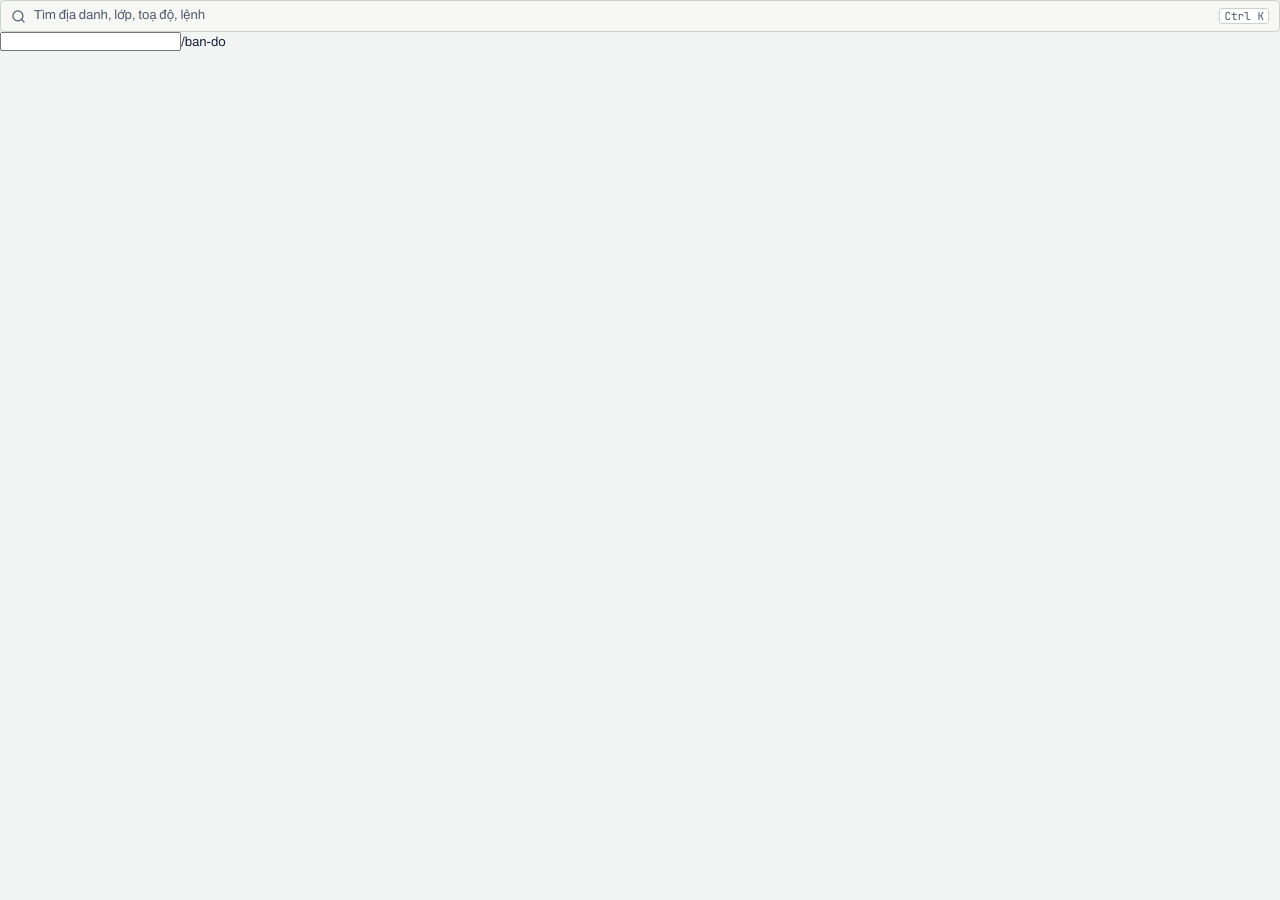
Scenario: CommandPalette › lists layers by name, without accents, and choosing one toggles it
This screenshot has width=1280, height=900.
Later steps or results of the test are not shown.
Click the button "Tìm địa danh, lớp, toạ độ, lệnh Ctrl K". click: (120, 15)
box: [0,0,1279,32]
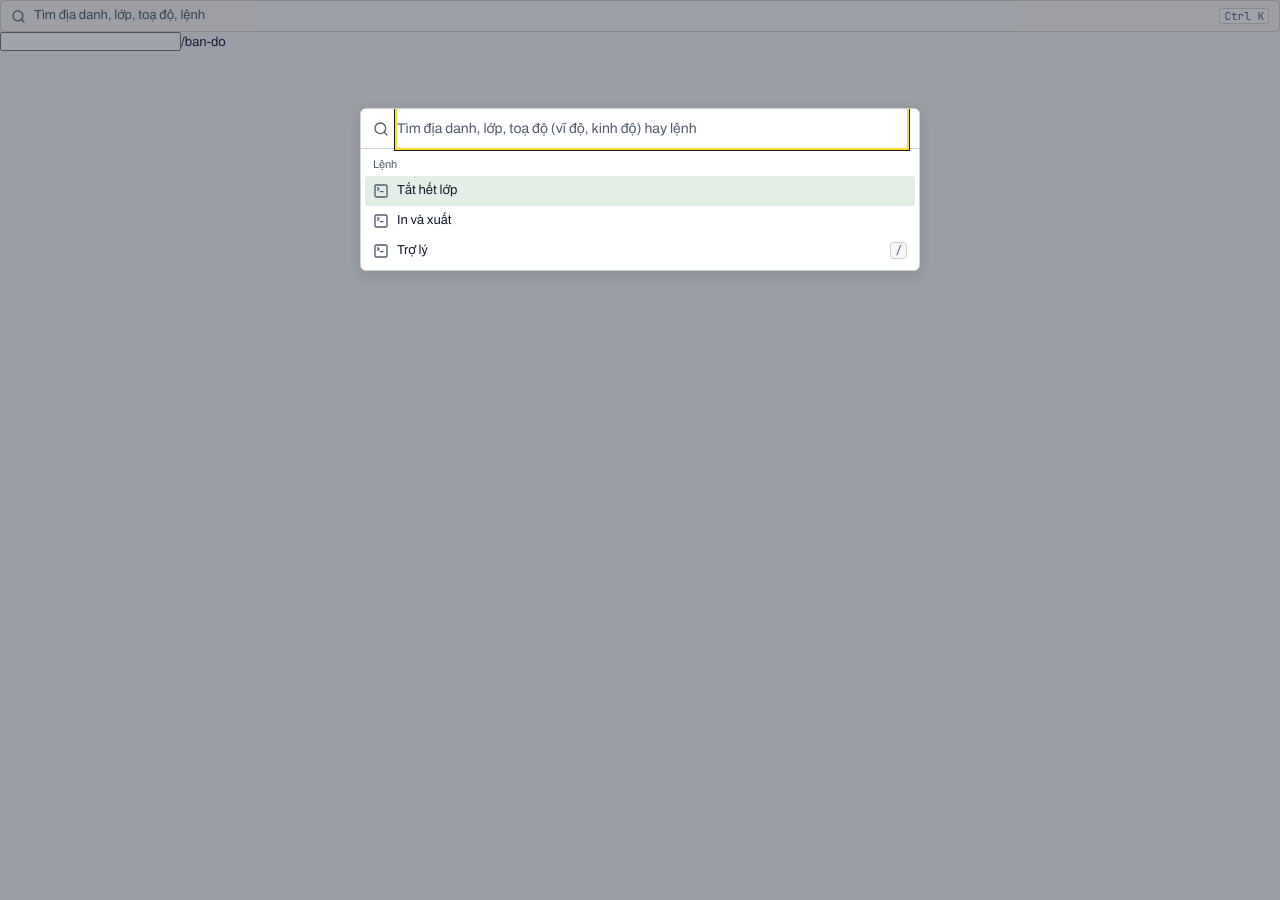
Type "ho chua" into the dropdown. click: (652, 128)
box: [397,109,907,148]
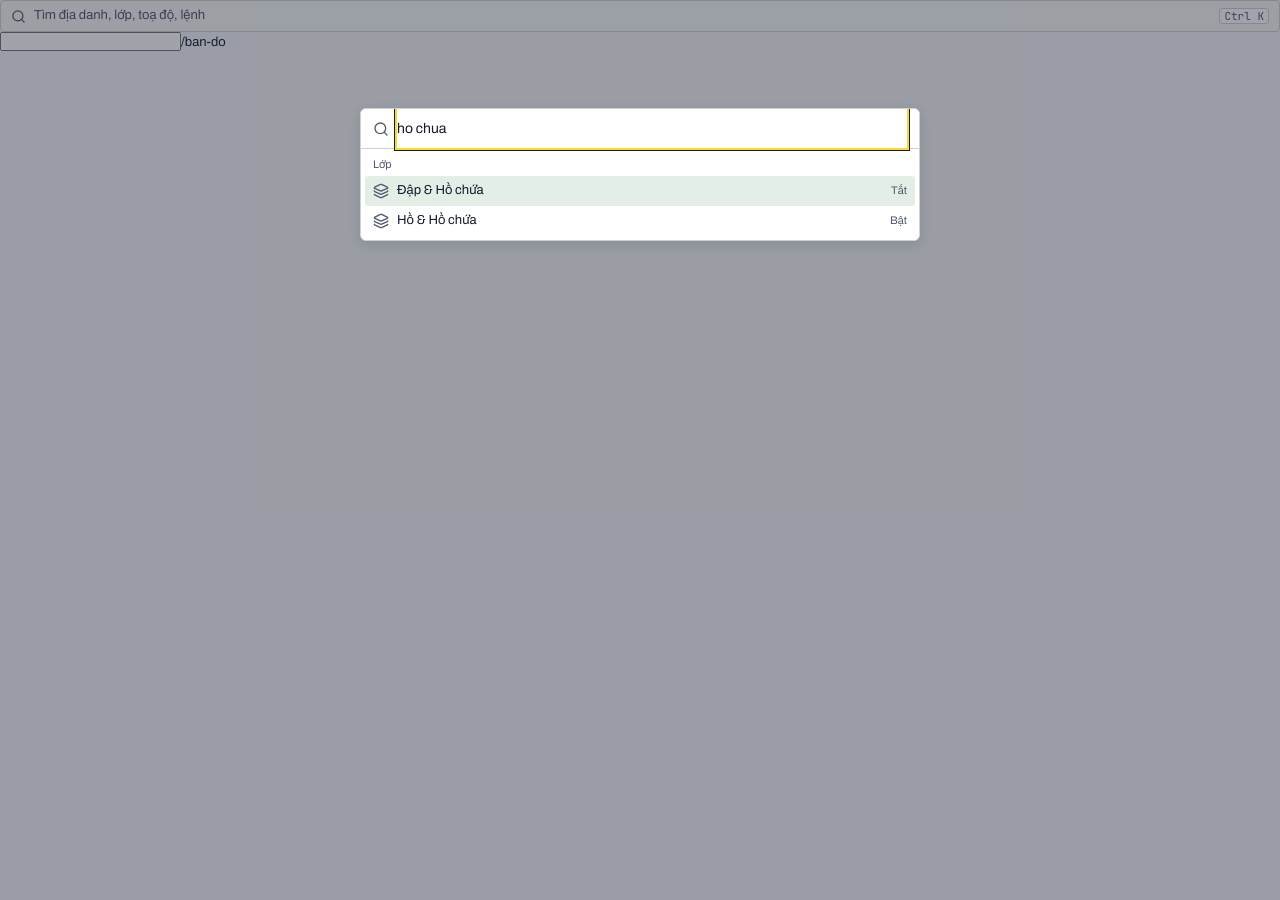
Check: the option "Hồ & Hồ chứa Bật" is shown, box [373,213,907,229]
